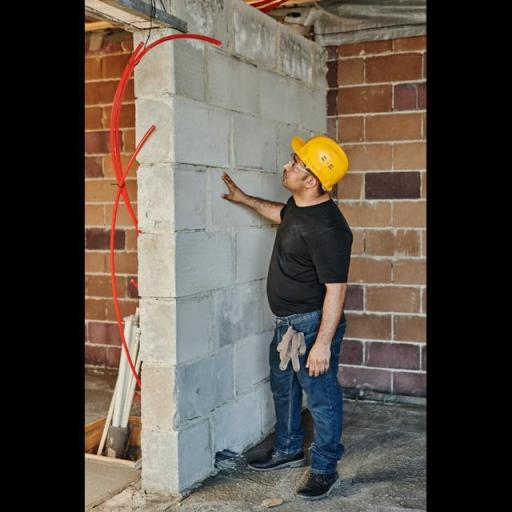Person: (217, 102, 377, 500)
boots: (295, 442, 353, 500), (238, 430, 312, 472)
helmet: (284, 130, 348, 206)
none: (256, 193, 351, 320), (214, 170, 250, 214), (302, 336, 338, 378)
